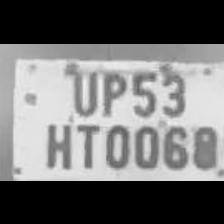0: (99, 118, 130, 168), (130, 120, 159, 168)
3: (158, 64, 188, 114)
5: (126, 62, 158, 116)
6: (160, 120, 188, 170)
8: (190, 120, 218, 170)
H: (39, 116, 73, 169)
P: (96, 64, 128, 116)
T: (72, 118, 100, 168)
U: (63, 64, 97, 114)
